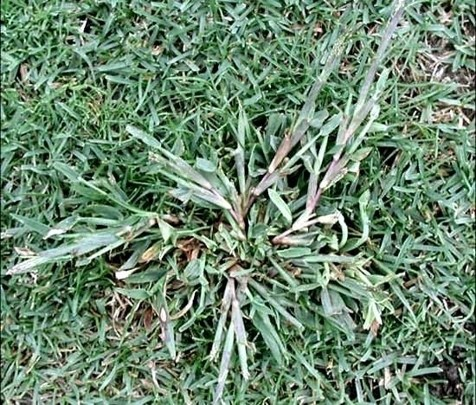crabgrass: (98, 121, 379, 333)
